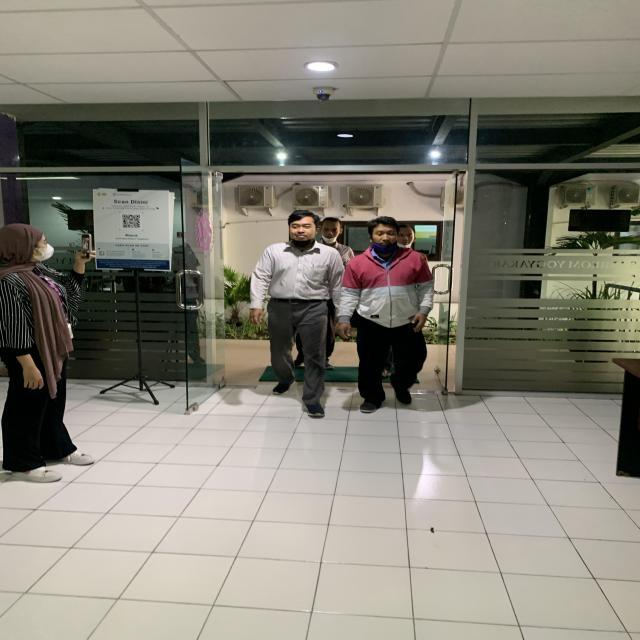hairnet: (289, 227, 316, 250), (371, 235, 396, 255), (396, 235, 420, 251), (319, 230, 338, 245)
